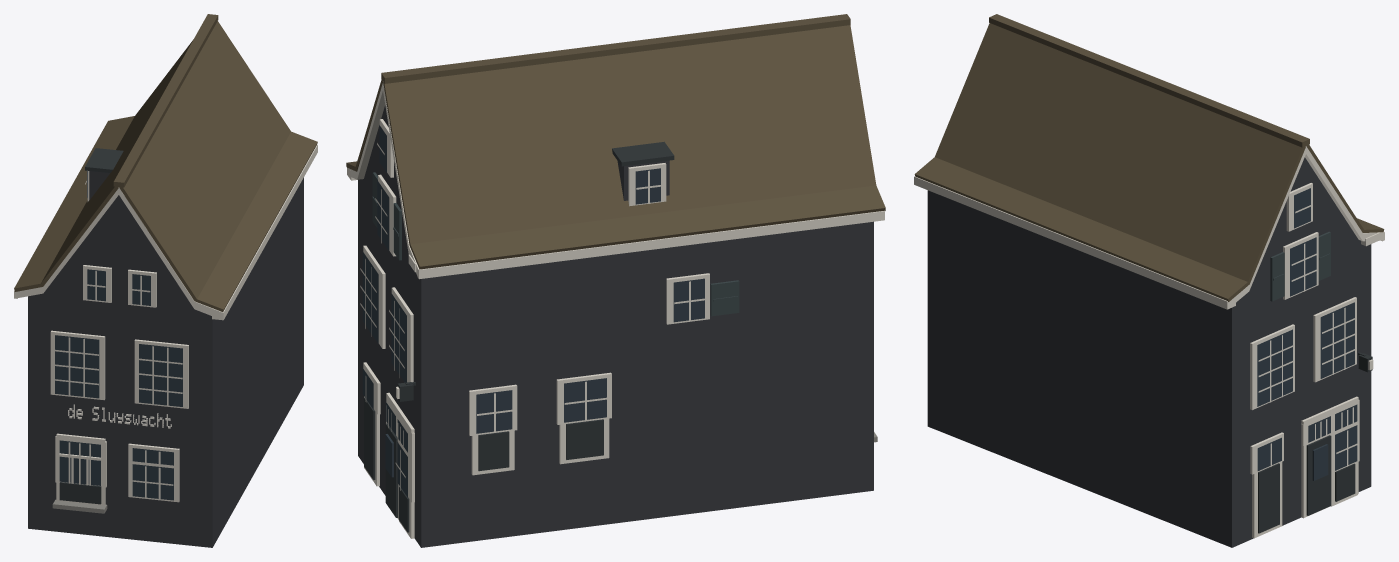
File: sluyswacht.glb
3 renders of one model, left to right at view 1: azimuth 30°, elevation 25°; view 2: azimuth 150°, elevation 25°; view 3: azimuth 270°, elevation 25°, orthographic. The views are drawn at different scales.
Parts seen in each view (by area): view 1: sluyswacht; view 2: sluyswacht; view 3: sluyswacht.
Boxes of the visible parts, x1=… form: sluyswacht: x1=14, y1=14, x2=317, y2=547; sluyswacht: x1=346, y1=14, x2=885, y2=547; sluyswacht: x1=914, y1=14, x2=1384, y2=547.
Bounding box in the file's own units: 11.33 × 10.28 × 11.57.
